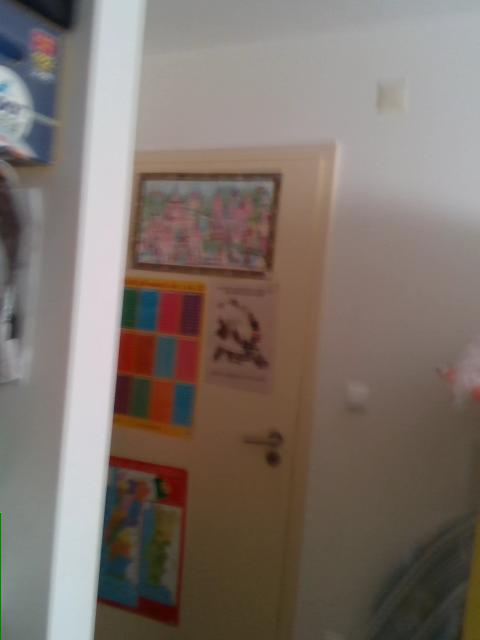door: (95, 143, 337, 637)
